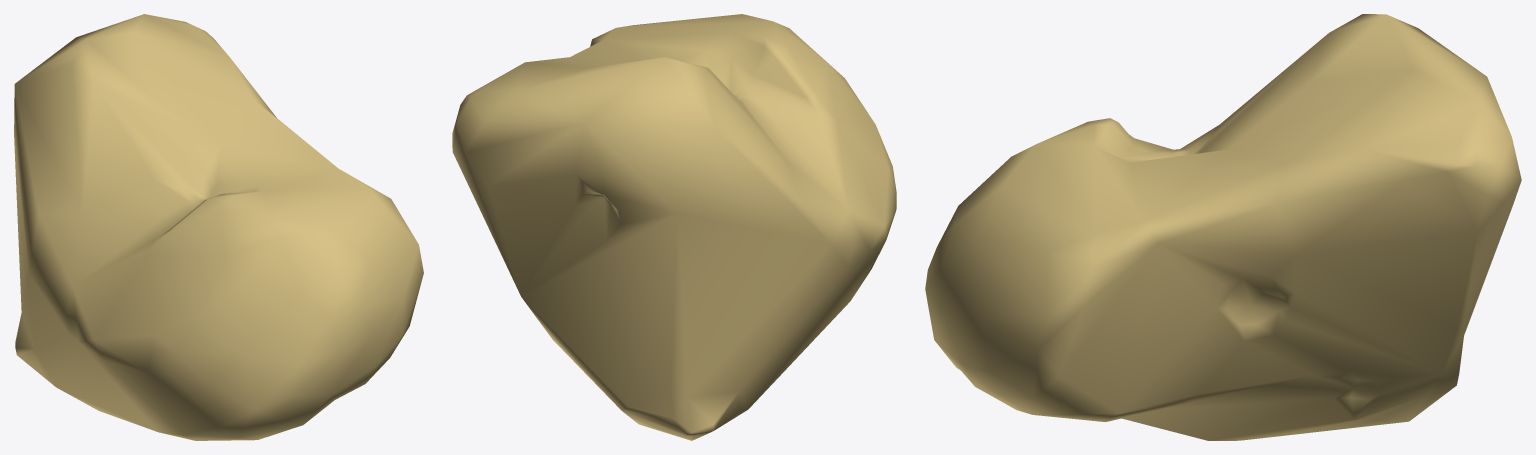
3 renders of one model, left to right at view 1: azimuth 30°, elevation 25°; view 2: azimuth 150°, elevation 25°; view 3: azimuth 270°, elevation 25°, orthographic. The views are drawn at different scales.
Visible parts, largest first — view 1: 右侧头状骨; view 2: 右侧头状骨; view 3: 右侧头状骨.
Part boxes in pixels (x1,y1,x2,y2): 右侧头状骨: [14, 14, 423, 440]; 右侧头状骨: [452, 14, 896, 440]; 右侧头状骨: [925, 14, 1521, 440].
Bounding box in the file's own units: 0.0245 × 0.0265 × 0.0345.
